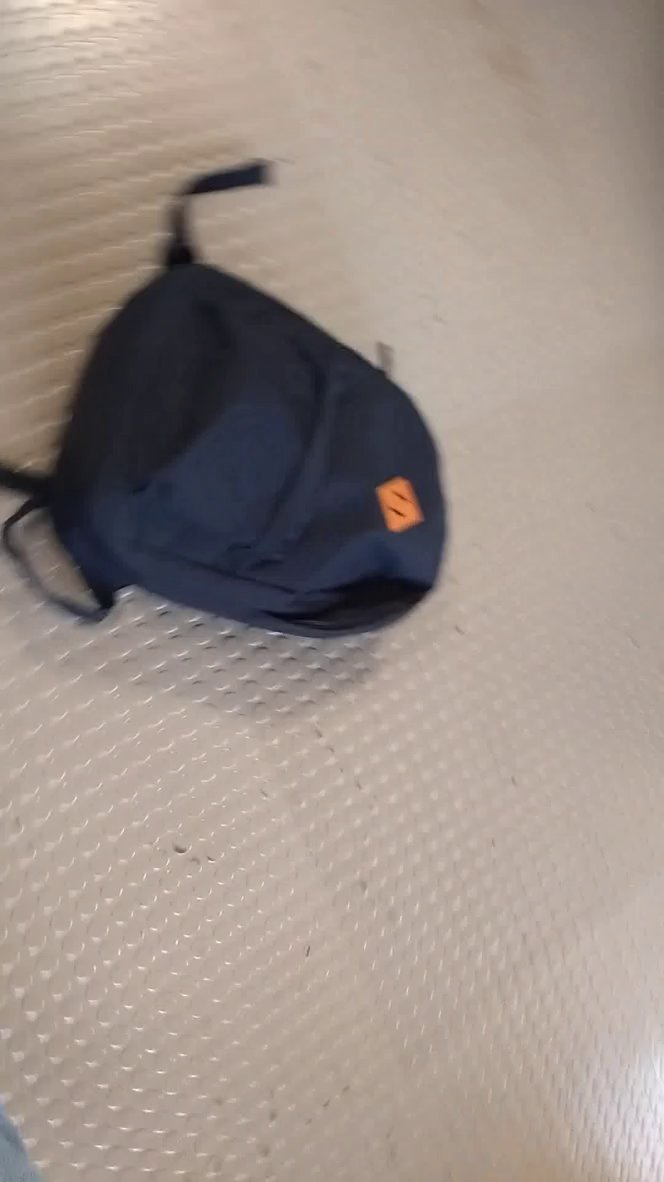bag: (1, 137, 463, 655)
